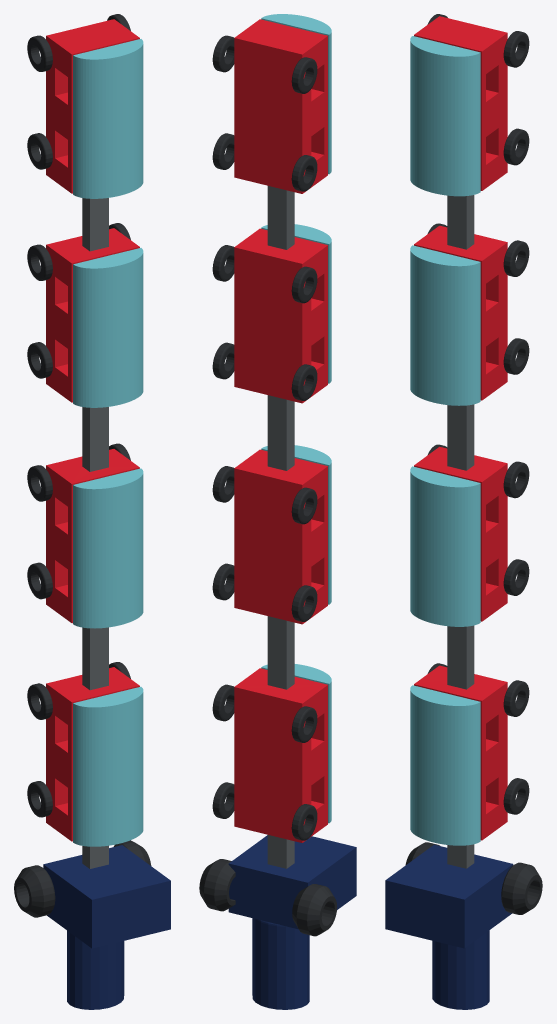
The model's file is tinker.obj.
3 views of the same model, side by side, from view 1: azimuth 30°, elevation 25°; view 2: azimuth 150°, elevation 25°; view 3: azimuth 330°, elevation 25° (orthographic).
Visible parts, largest first — view 1: group_0_7720667, group_0_15277357, group_0_1650274, group_0_2829873, group_0_6383466; view 2: group_0_15277357, group_0_2829873, group_0_1650274, group_0_6383466, group_0_7720667; view 3: group_0_7720667, group_0_15277357, group_0_1650274, group_0_2829873, group_0_6383466.
Boxes of the visible parts, box(x1,y1,x2,y2) form: group_0_7720667: box(73, 39, 143, 846); group_0_15277357: box(46, 19, 139, 841); group_0_1650274: box(43, 845, 170, 1009); group_0_2829873: box(14, 14, 151, 917); group_0_6383466: box(82, 198, 108, 868); group_0_15277357: box(234, 19, 327, 842); group_0_2829873: box(199, 35, 336, 936); group_0_1650274: box(228, 835, 356, 1009); group_0_6383466: box(267, 186, 294, 868); group_0_7720667: box(261, 14, 331, 823); group_0_7720667: box(410, 36, 480, 845); group_0_15277357: box(414, 16, 507, 840); group_0_1650274: box(385, 844, 513, 1009); group_0_2829873: box(405, 14, 542, 914); group_0_6383466: box(447, 195, 474, 868).
Size of the model in its own units: 54 by 414 by 48.
